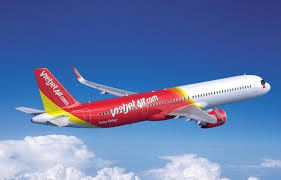maybay_dansu: (19, 51, 281, 137)
